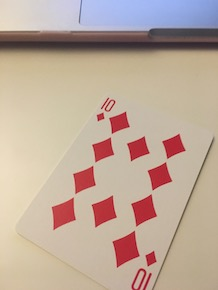TenOfDiamonds: (13, 90, 218, 290)
